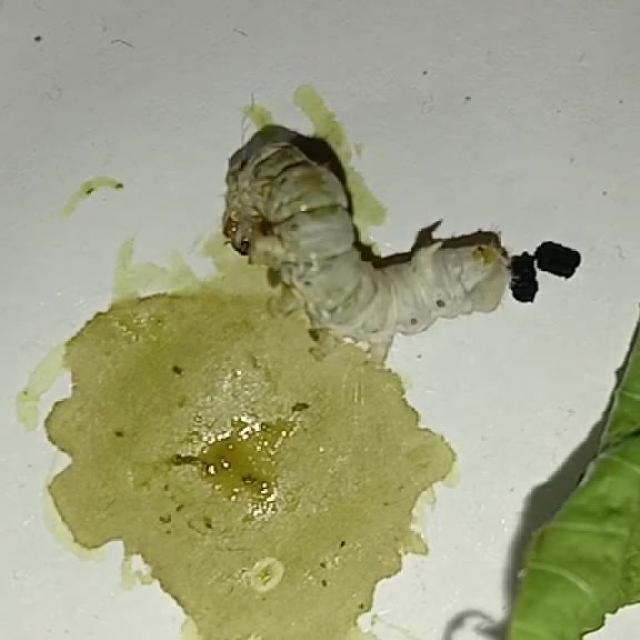Grasserie: (200, 92, 540, 348)
